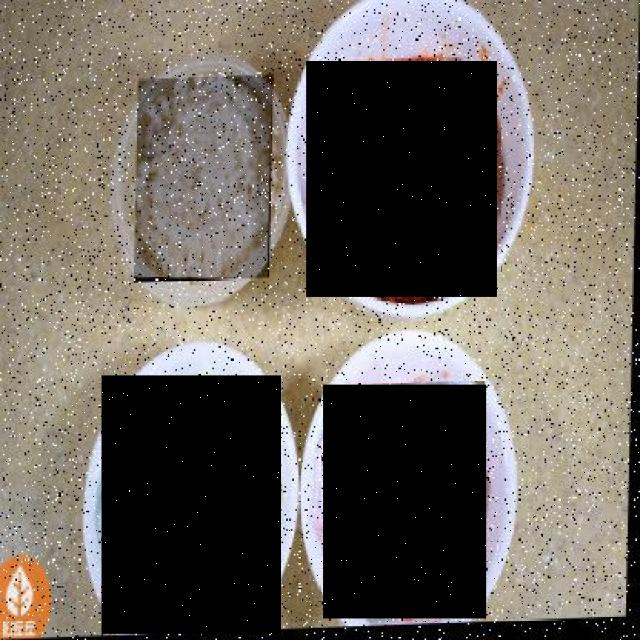Onion_Leaves: (102, 376, 281, 635)
Pork: (324, 384, 487, 619)
kimchi: (307, 60, 498, 297)
